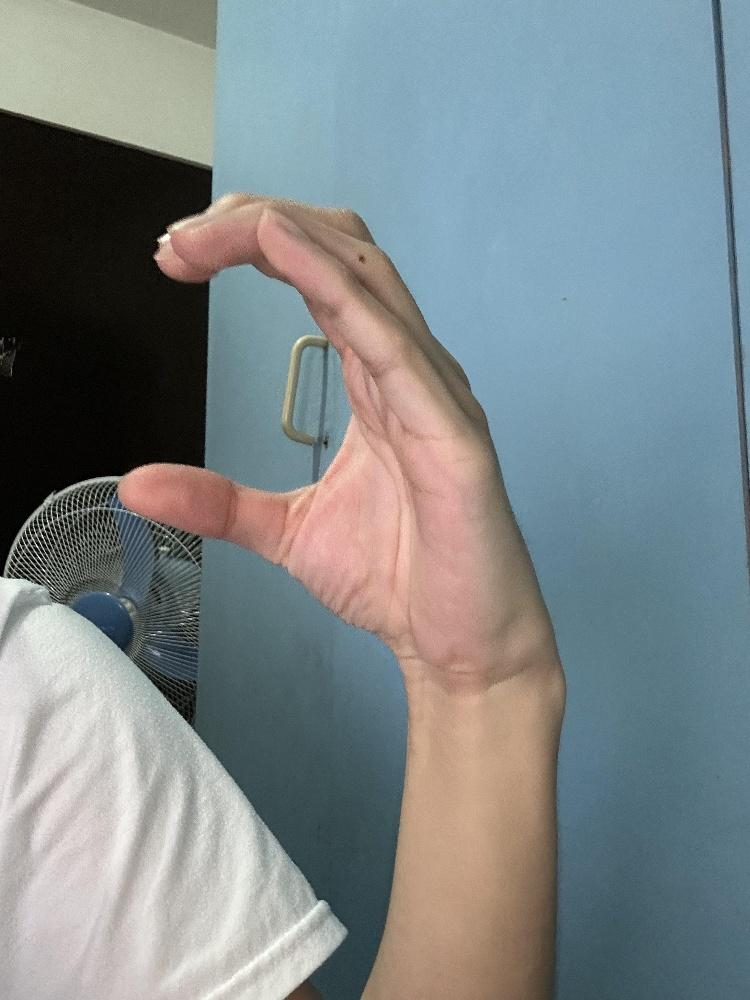c: (107, 185, 556, 690)
